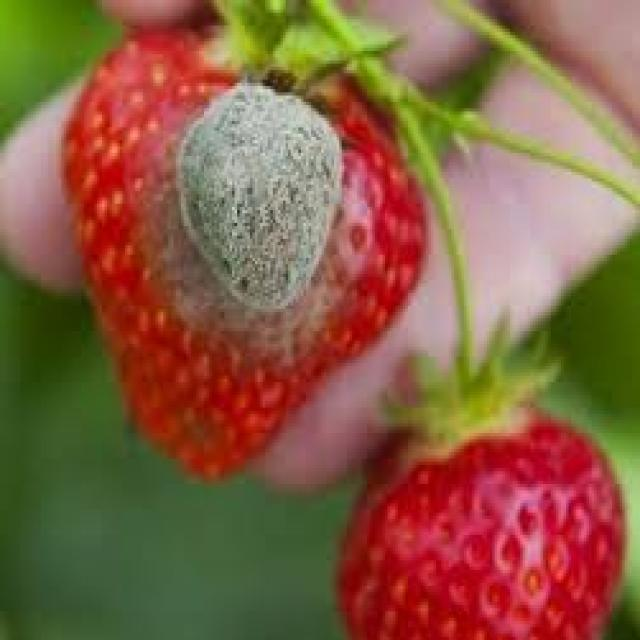Fruta sana: (343, 419, 626, 640)
Moho gris: (55, 25, 432, 476), (180, 81, 347, 324)
